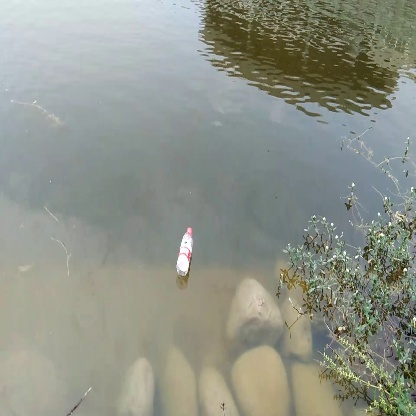bottle: (174, 222, 202, 281)
